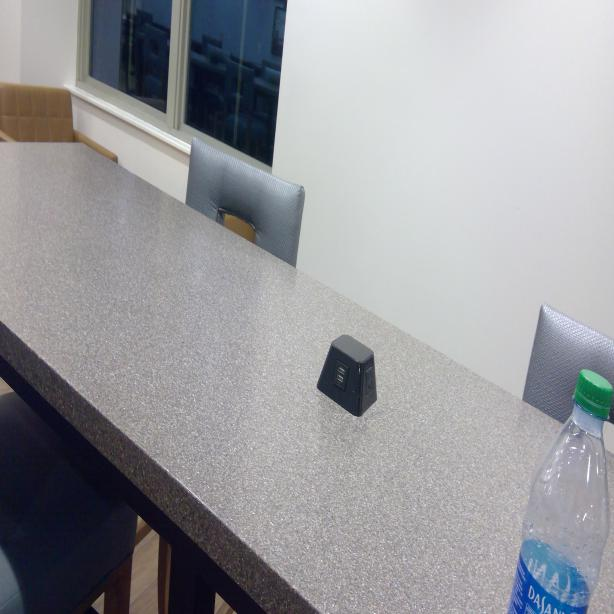typeb: (362, 362, 376, 395)
